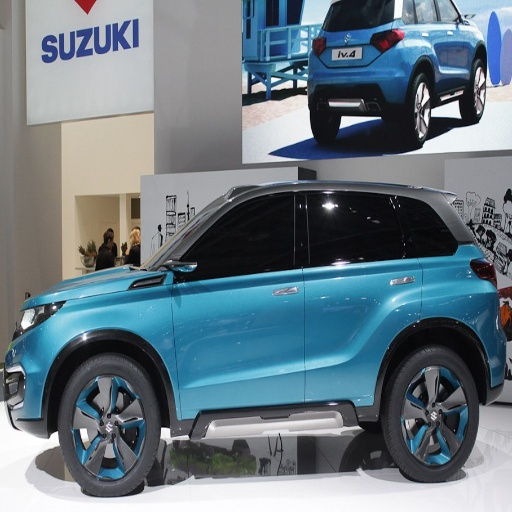back_bumper: (317, 53, 412, 102)
back_glass: (330, 1, 394, 27)
back_left_door: (305, 184, 420, 402)
front_left_door: (176, 188, 305, 413)
trunk: (318, 24, 481, 73)
